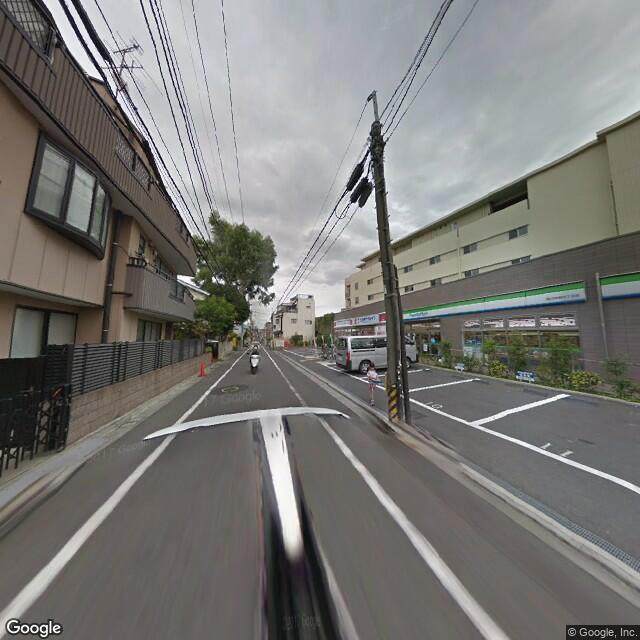family_mart: (399, 269, 639, 322)
